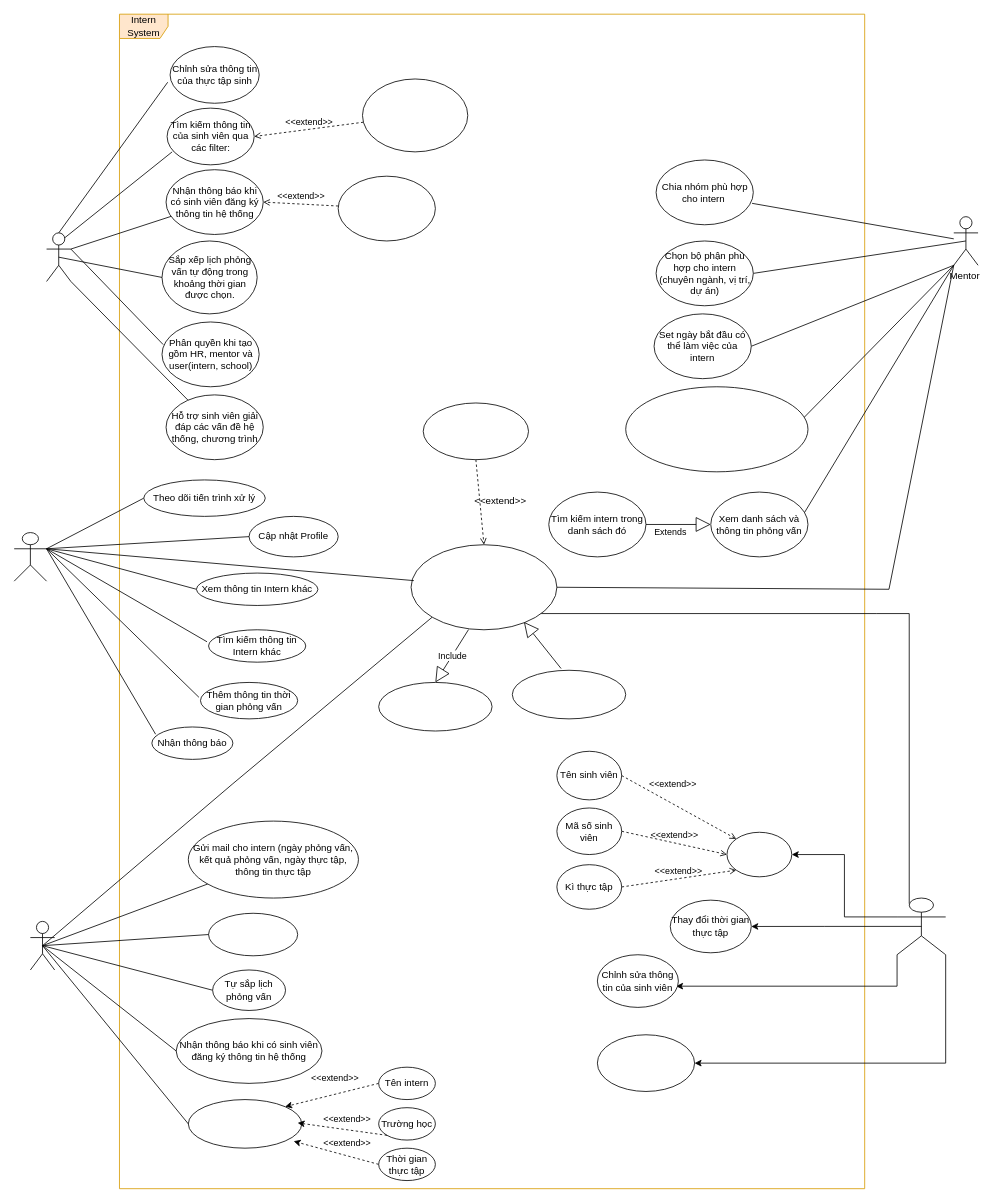
This 996x1203 diagram has some shape labels left out. The shapes that lost their labels are listed below. From the top down, each one's box as (x1, y1, x2, y2) in pixels, then its label:
(362, 78, 468, 152): Khung tìm kiếm theo : tên, trường, kỳ thực tập
(337, 175, 435, 241): Upload thông tin từ các file sheet lên hệ thống xử lý
(46, 232, 71, 281): Admin
(422, 402, 529, 460): Email cá nhân
(625, 386, 808, 472): Nhận thông tin số lượng người xác nhận phỏng vấn và bắt đầu kì thực tập từ mail
(13, 532, 47, 581): Intern
(410, 544, 557, 630): Đăng nhập
(378, 682, 492, 731): Đăng ký tài khoản
(512, 669, 626, 719): Quên mật Khảu
(726, 831, 792, 877): Tìm kiếm sinh viên
(30, 921, 55, 970): HR
(208, 912, 298, 956): Gửi danh sách intern cho mentor
(896, 897, 946, 955): School
(597, 1034, 695, 1091): Gửi danh sách sinh viên thực tập cho HR
(188, 1099, 302, 1148): Tìm kiếm và chỉnh sửa thông tin intern
